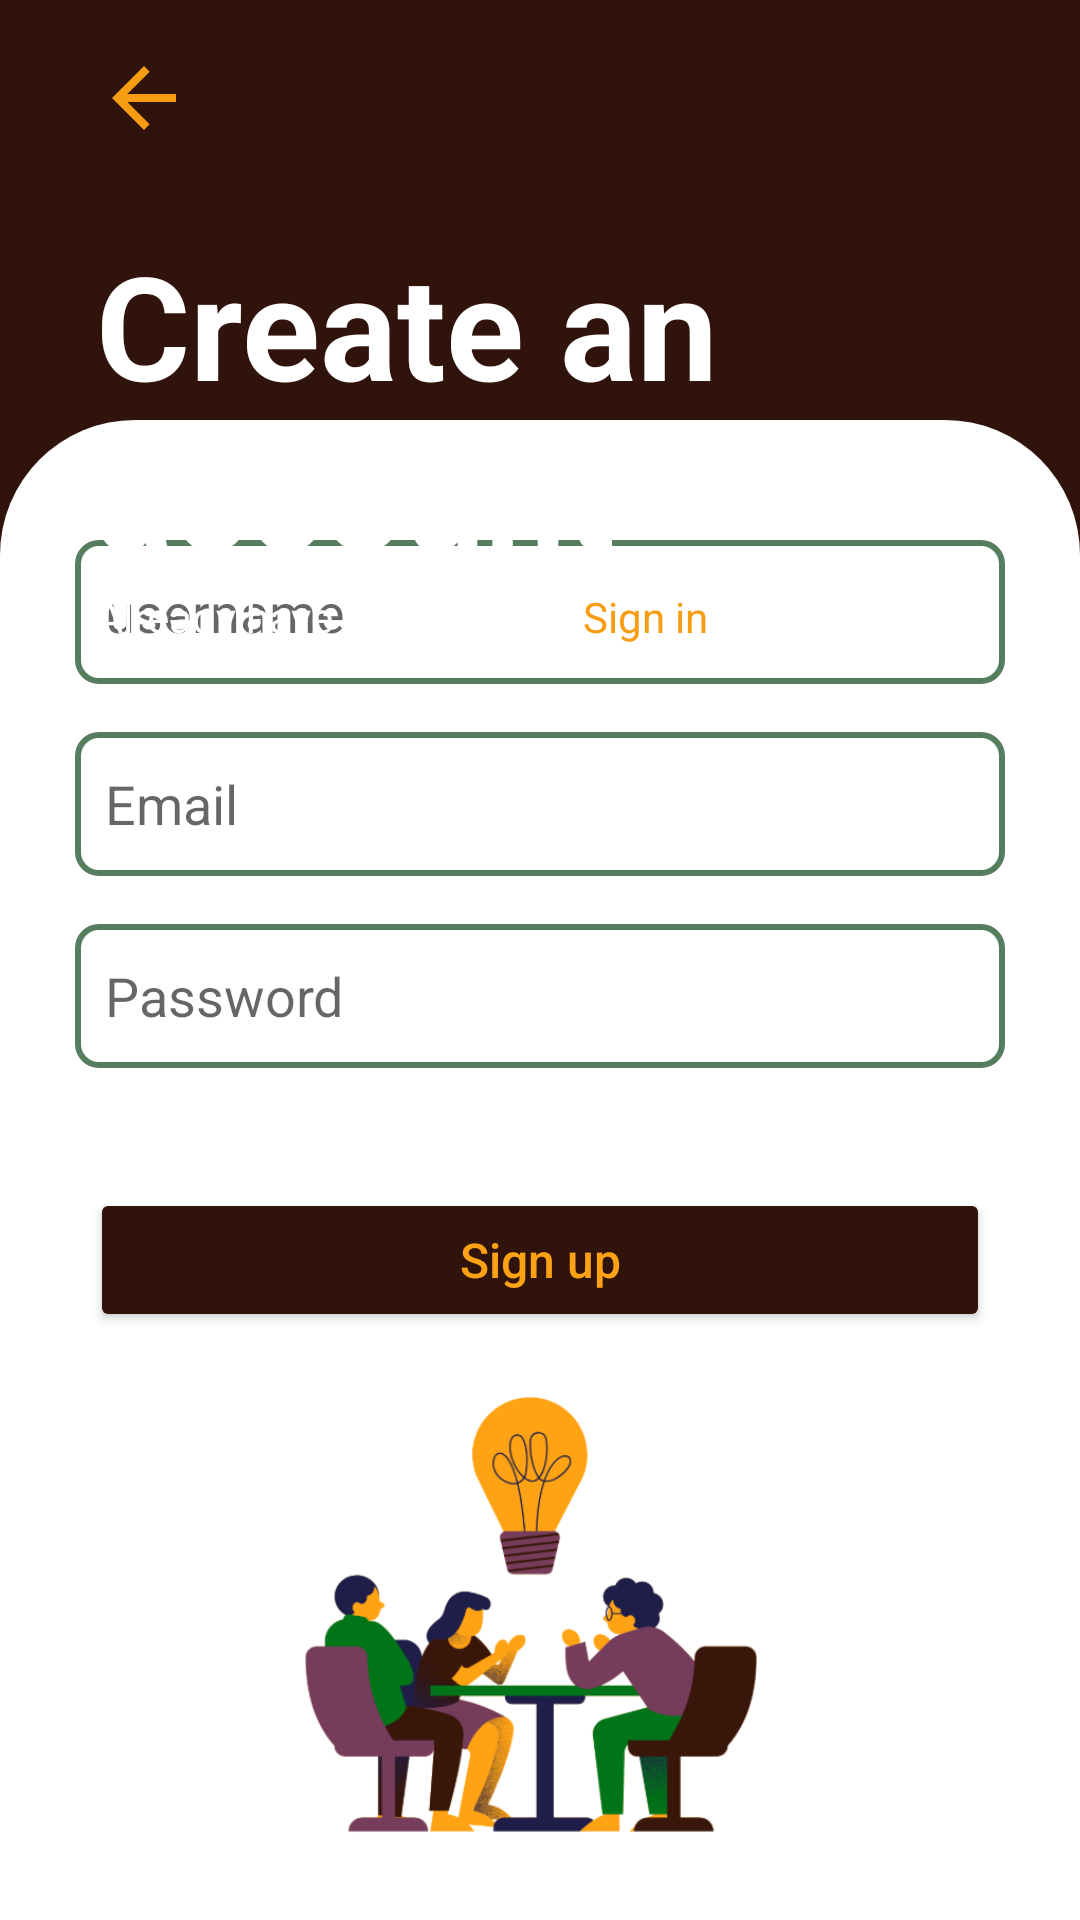

Where icons sit on this 1080x1920 app screen, as (x1, y1, x2, y2):
backbutton: (112, 66, 176, 130)
